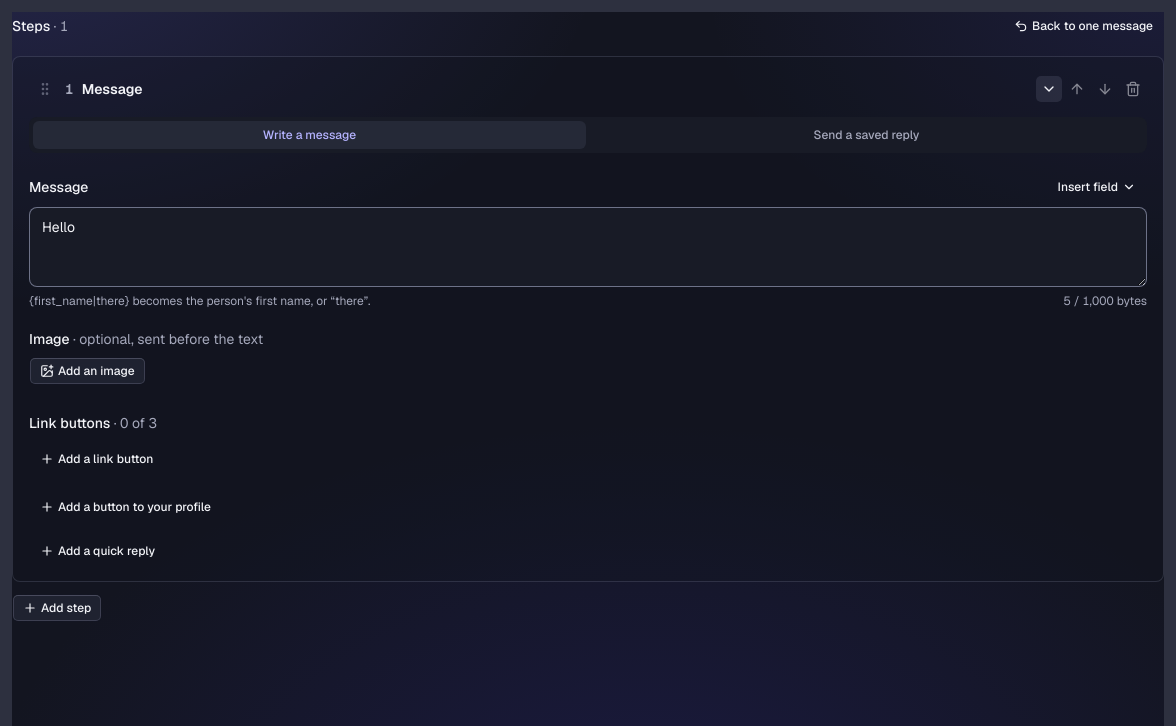
Test: the flow editor (GR-13) › adds a step of each kind the engine runs from the Add step menu
The image size is (1176, 726).
Click the button "Add step" at (57, 608), box [12,594,102,622]
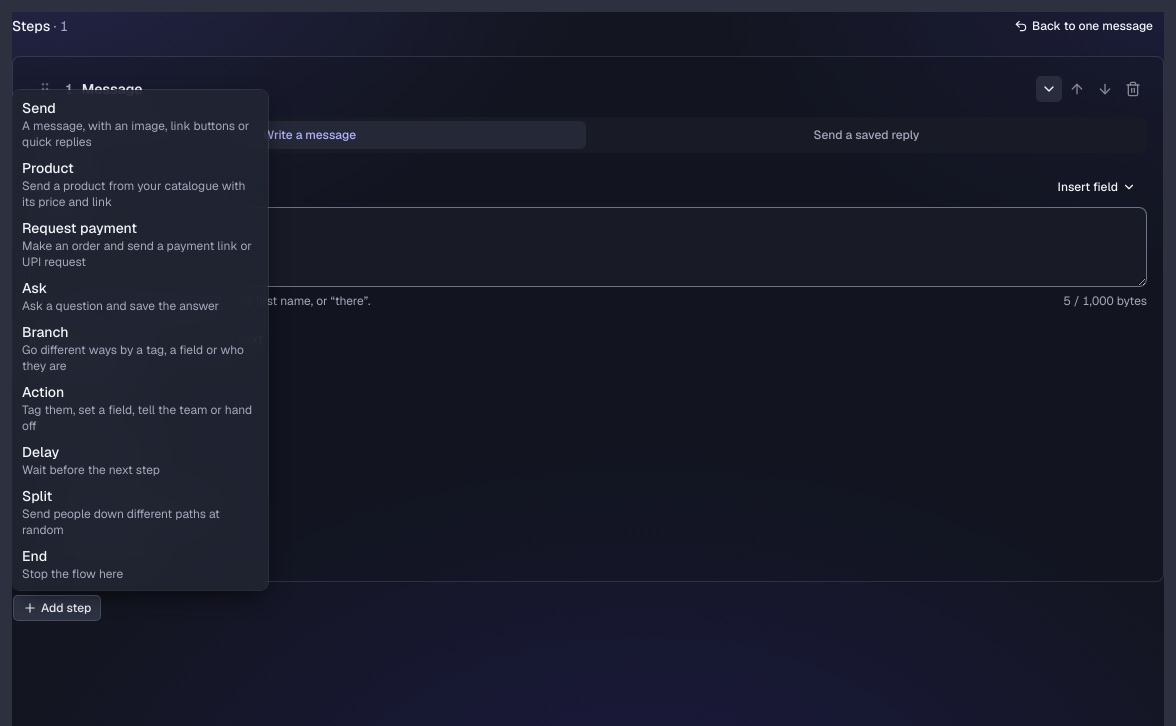
Click the menu item "Delay Wait before the next step" at (91, 460), box [22,443,160,478]
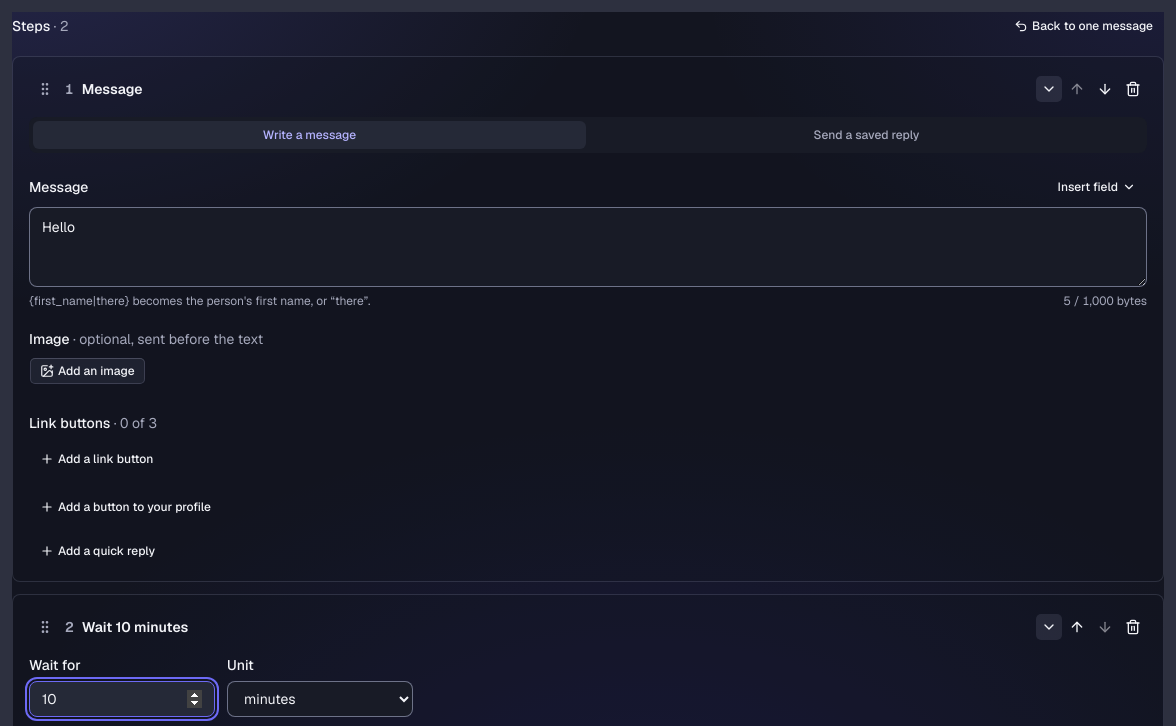
Check: the text with test id "flow-count" shows "2", box [60,17,68,35]
